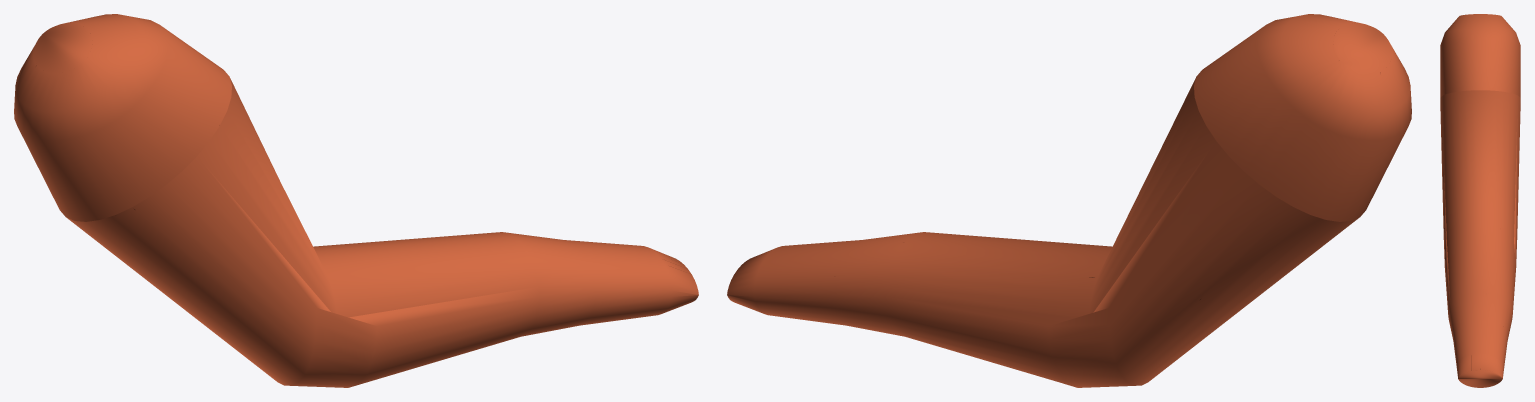
The model's file is catArmMegaKart(22-03-12).fbx.
3 renders of one model, left to right at view 1: azimuth 30°, elevation 25°; view 2: azimuth 150°, elevation 25°; view 3: azimuth 270°, elevation 25°, orthographic. The views are drawn at different scales.
Parts seen in each view (by area): view 1: arm1.001; view 2: arm1.001; view 3: arm1.001.
Part boxes in pixels (x1,y1,x2,y2): arm1.001: (14,14,698,387); arm1.001: (727,14,1411,387); arm1.001: (1440,14,1520,387).
Bounding box in the file's own units: 288 × 176 × 57.6.
